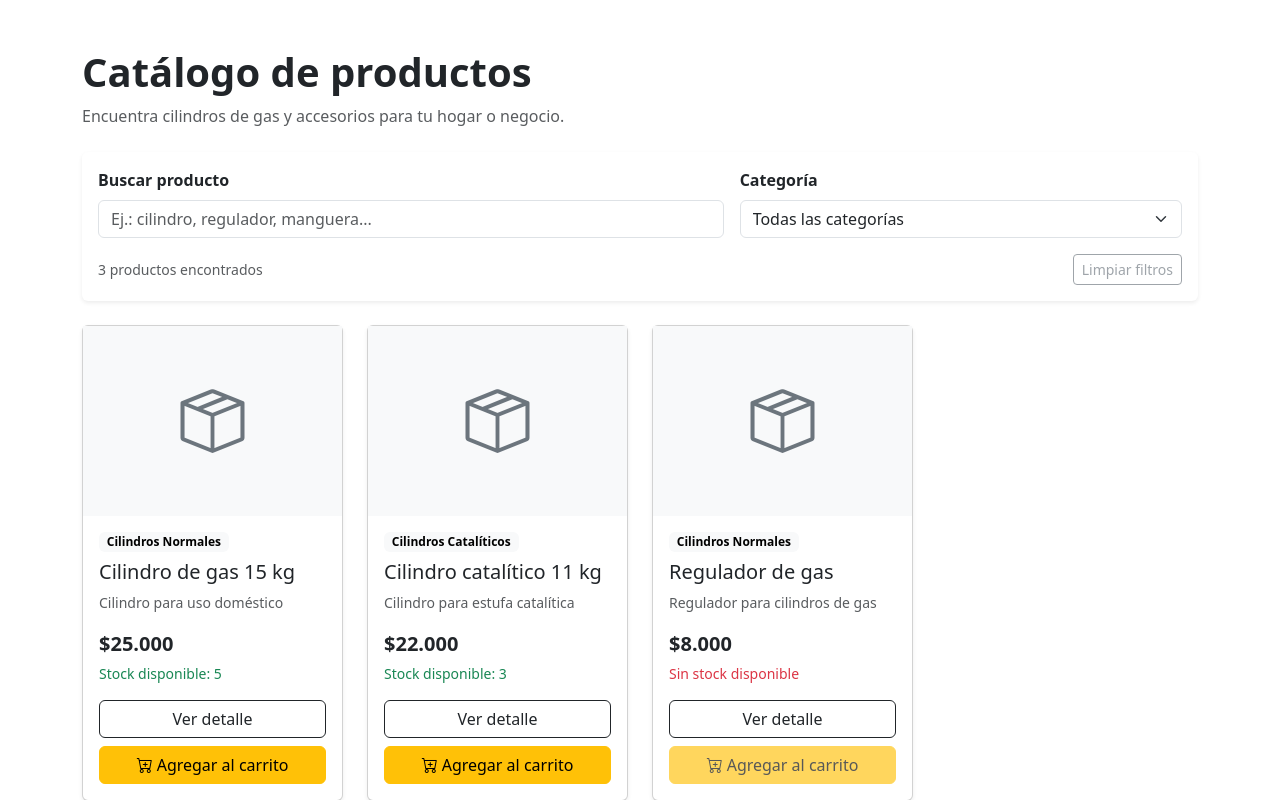
Test case: Products › filtra productos por nombre sin distinguir mayúsculas
This screenshot has width=1280, height=800.
Type "REGULADOR" into the search field labelled "Buscar producto" at (411, 219), box [98,200,724,238]
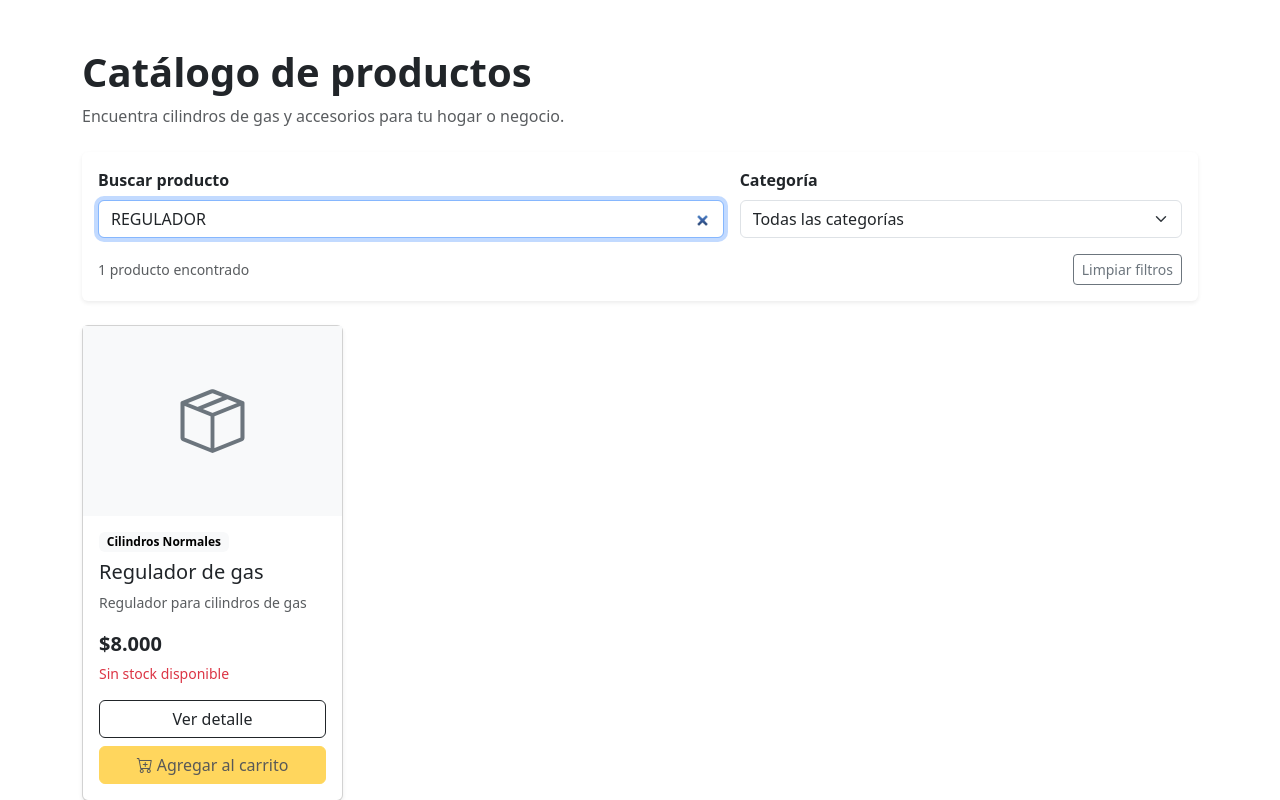
Expected: the heading "Regulador de gas" is shown, [99,558,264,585]
Expected: the heading "Cilindro de gas 15 kg" is gone
Expected: the text "1 producto encontrado" is shown, [98,259,249,280]
